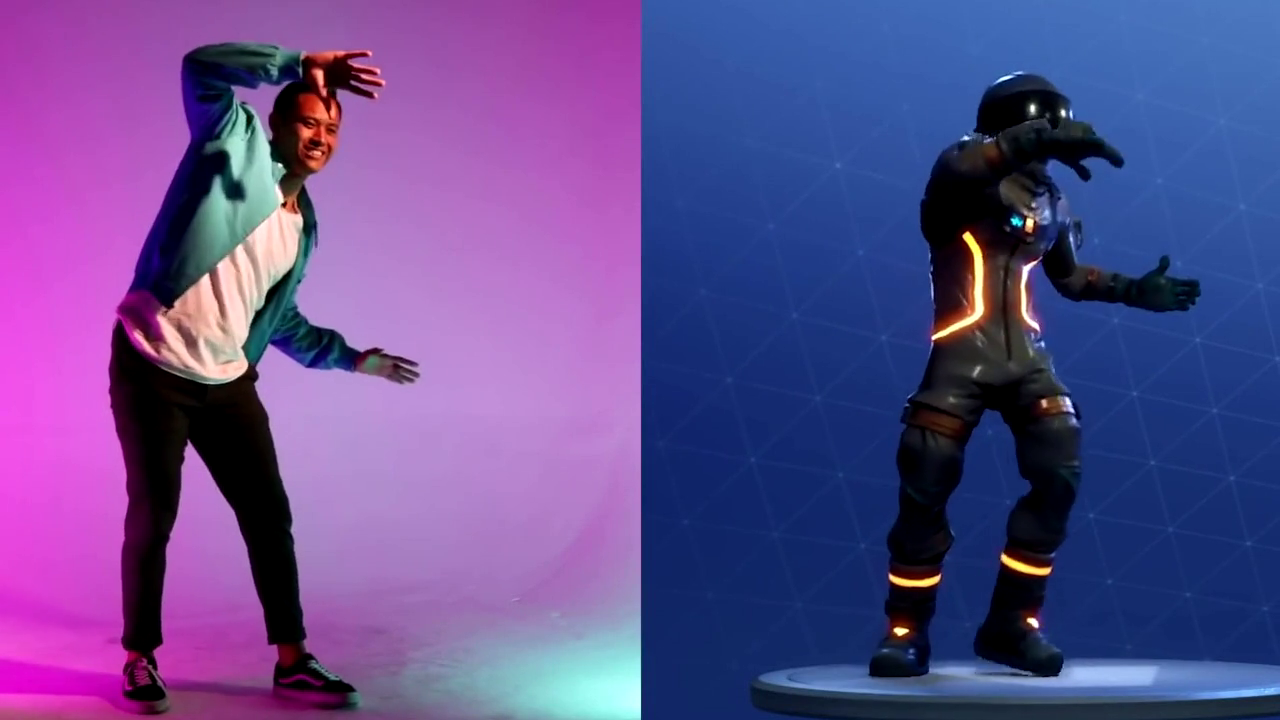Head: (264, 81, 364, 171)
Hip: (90, 328, 299, 460)
LeftAnkle: (244, 617, 375, 712)
LeftKnee: (207, 474, 309, 559)
LeftWrist: (336, 316, 437, 403)
RightAnkle: (77, 613, 187, 710)
RightElbow: (161, 31, 244, 102)
RightKnee: (119, 481, 205, 558)
RightWrist: (286, 48, 394, 111)
Torso: (187, 130, 308, 401)
